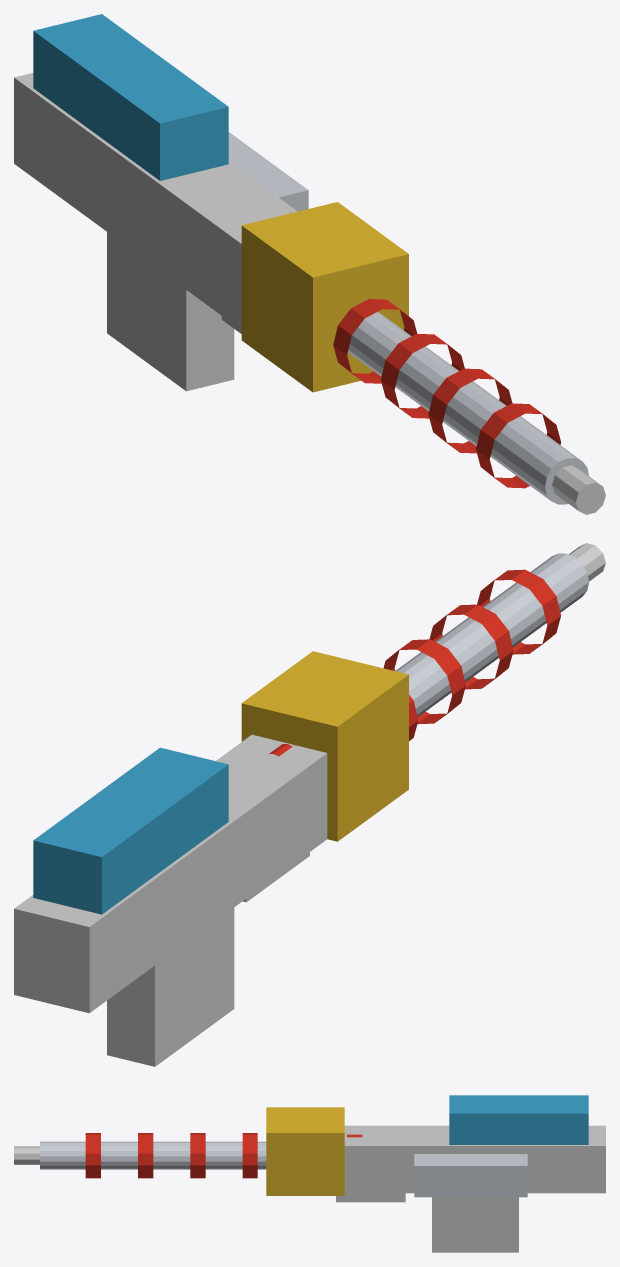
The model's file is gauss_rifle.obj.
3 views of the same model, one above another, from view 1: azimuth 30°, elevation 25°; view 2: azimuth 150°, elevation 25°; view 3: azimuth 270°, elevation 25° (orthographic). The views are drawn at different scales.
Parts seen in each view (by area): view 1: gauss_rifle; view 2: gauss_rifle; view 3: gauss_rifle.
Boxes of the visible parts, x1,y1,x2,y2 form: gauss_rifle: (14,14,605,514); gauss_rifle: (14,543,605,1066); gauss_rifle: (14,1095,605,1252).
Size of the model in its own units: 0.19 by 0.36 by 1.36.
